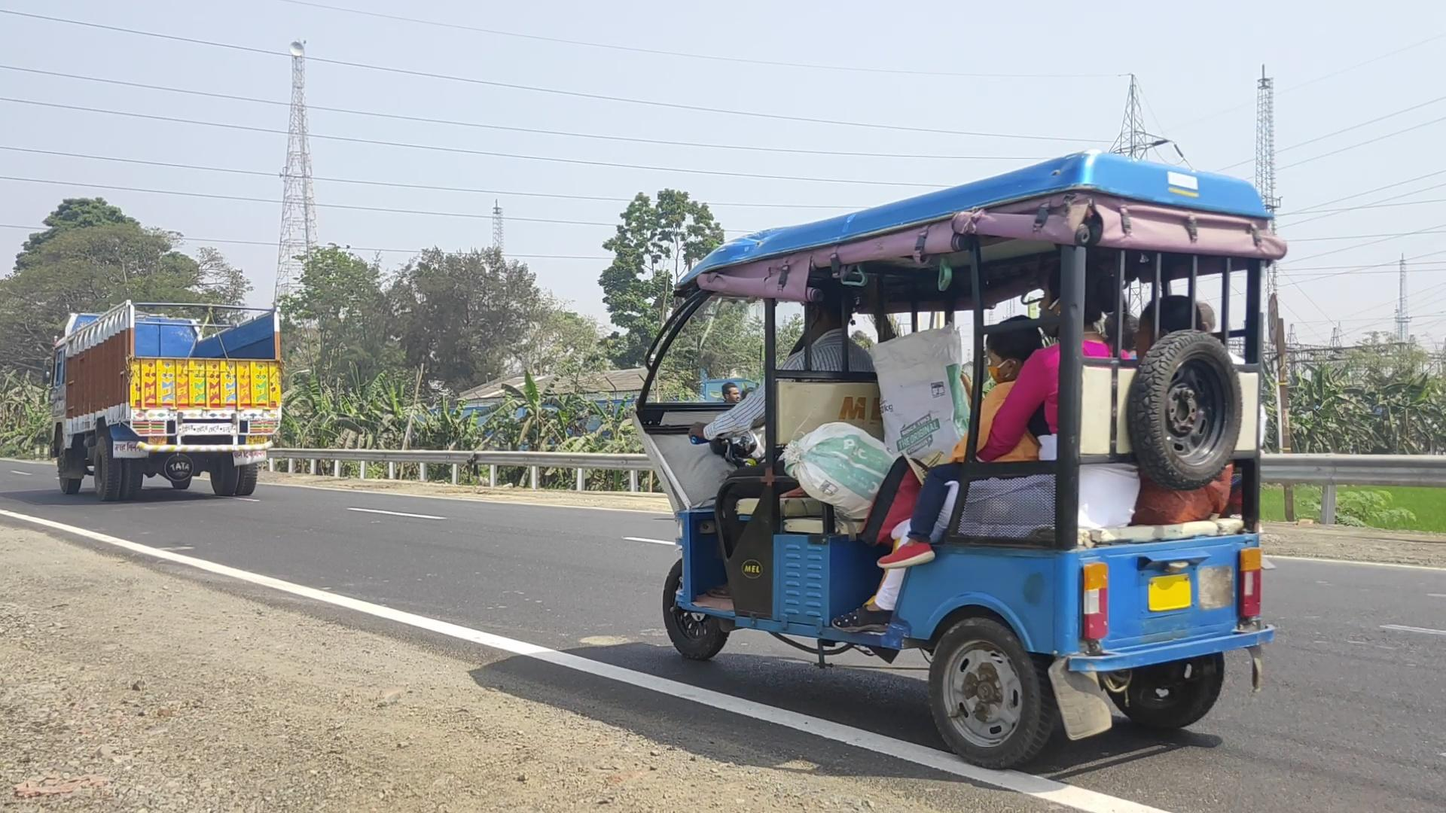Auto: (630, 151, 1275, 771)
truck: (43, 300, 284, 502)
